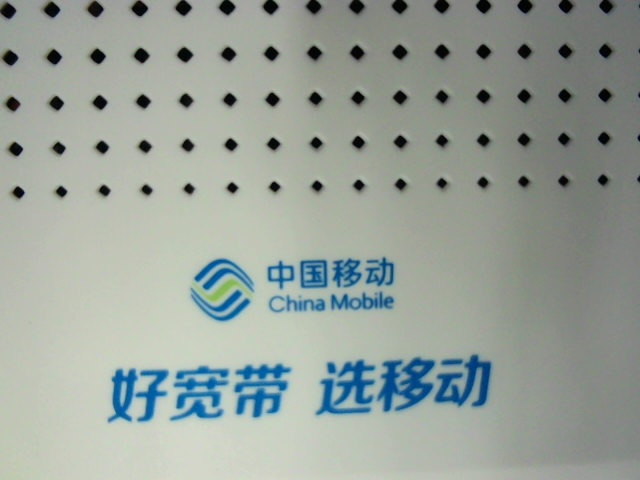AA_ChinaMobile: (91, 255, 494, 426)
